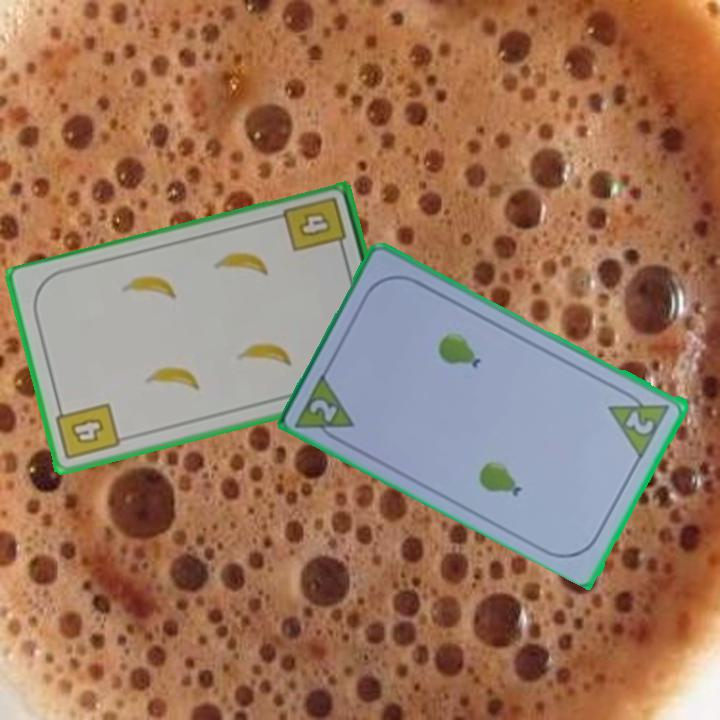2p: (292, 368, 359, 448), (622, 406, 658, 438)
4b: (53, 399, 123, 464), (280, 193, 350, 258)
